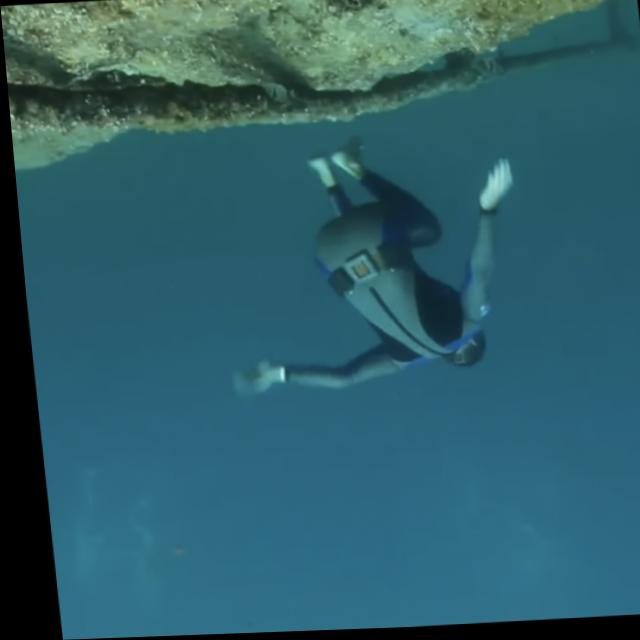human: (194, 127, 536, 416)
